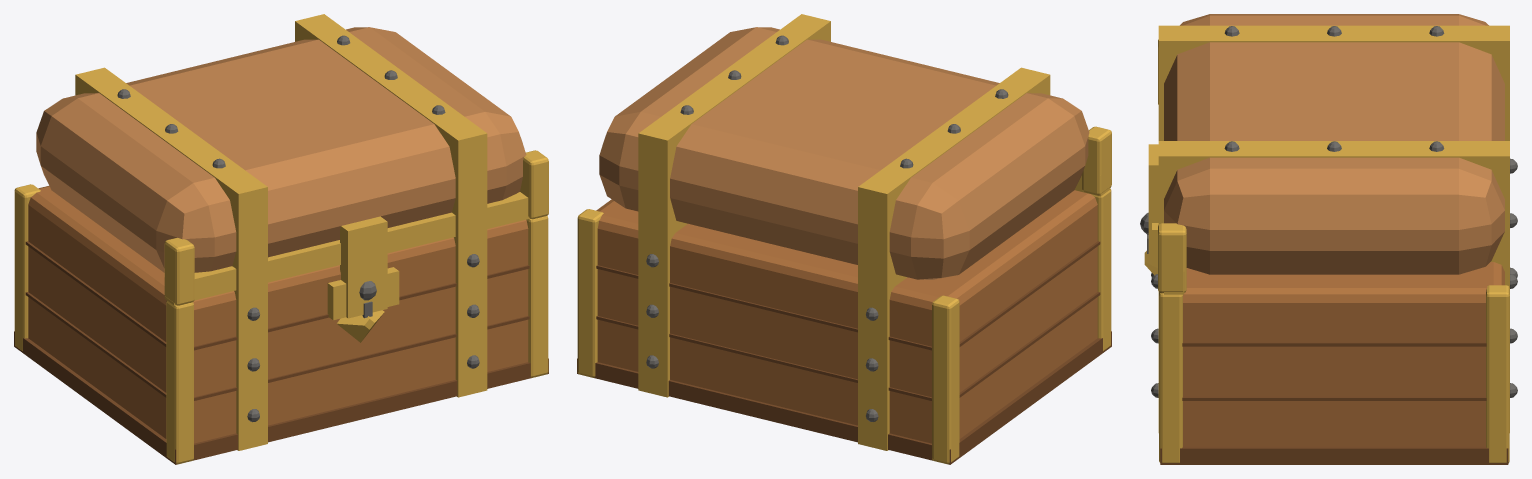
Rendered from chest_s.glb.
3 views of the same model, side by side, from view 1: azimuth 30°, elevation 25°; view 2: azimuth 150°, elevation 25°; view 3: azimuth 270°, elevation 25° (orthographic). The views are drawn at different scales.
Visible parts, largest first — view 1: Lid, ChestS; view 2: ChestS, Lid; view 3: Lid, ChestS.
Boxes of the visible parts, x1,y1,x2,y2 form: Lid: [36, 14, 548, 318]; ChestS: [14, 184, 548, 464]; ChestS: [577, 189, 1111, 464]; Lid: [599, 14, 1111, 292]; Lid: [1148, 14, 1509, 294]; ChestS: [1140, 158, 1517, 464].
Bounding box in the file's own units: 1.23 × 0.8253 × 0.9972.
